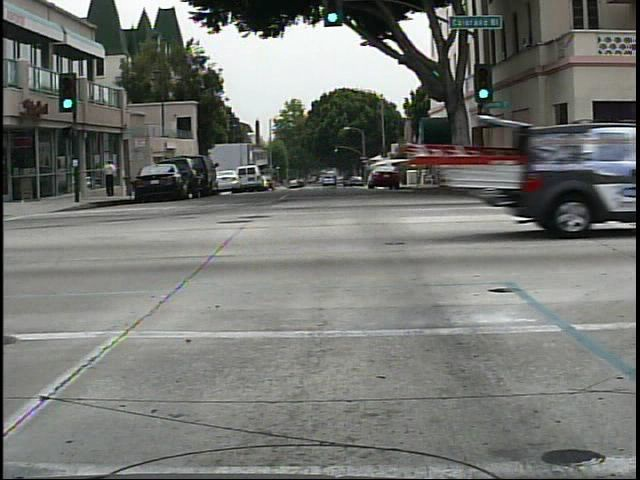person: (452, 142, 480, 197), (98, 153, 124, 202)
